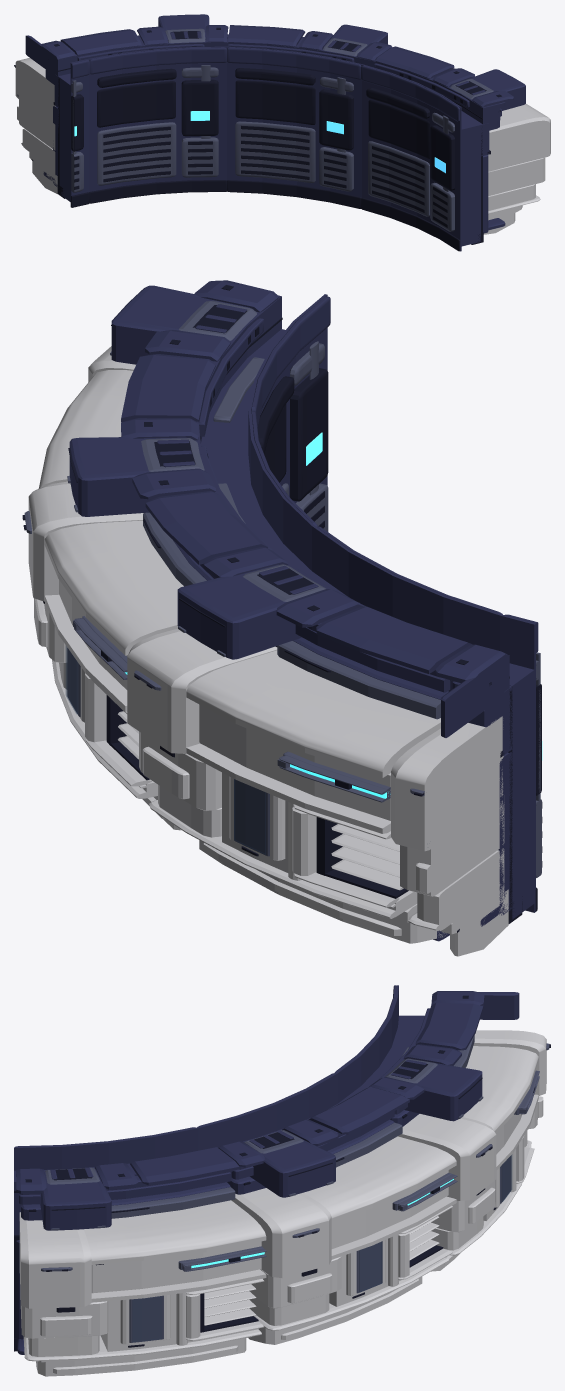
Rendered from hull.arc2.c.glb.
3 renders of one model, top to bottom at view 1: azimuth 30°, elevation 25°; view 2: azimuth 150°, elevation 25°; view 3: azimuth 270°, elevation 25°, orthographic. The views are drawn at different scales.
Parts seen in each view (by area): view 1: GEO-hull.arc2.c; view 2: GEO-hull.arc2.c; view 3: GEO-hull.arc2.c.
Part boxes in pixels (x1,y1,x2,y2): GEO-hull.arc2.c: (14, 14, 550, 251); GEO-hull.arc2.c: (22, 280, 542, 956); GEO-hull.arc2.c: (14, 985, 550, 1376).
Bounding box in the file's own units: 2.51 × 1 × 2.51.
